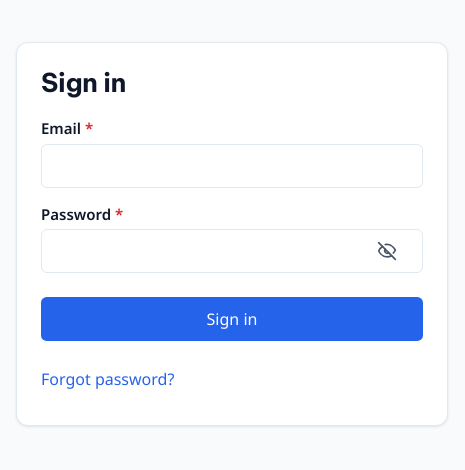
Test: authentication pages › uses noValidate and accessible inline validation without title or tooltip
Click the button "Sign in": (232, 319) x1=41 y1=297 x2=423 y2=341
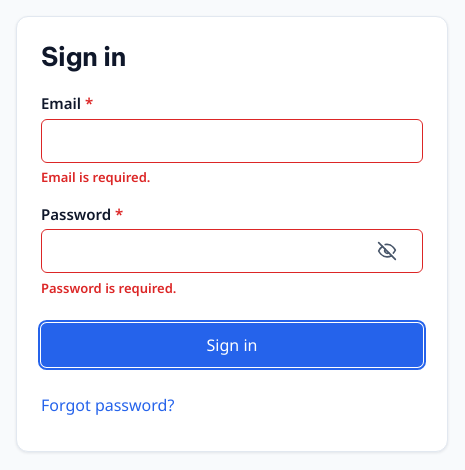
Expected: the text "Email is required." is shown, x1=41 y1=168 x2=150 y2=186
